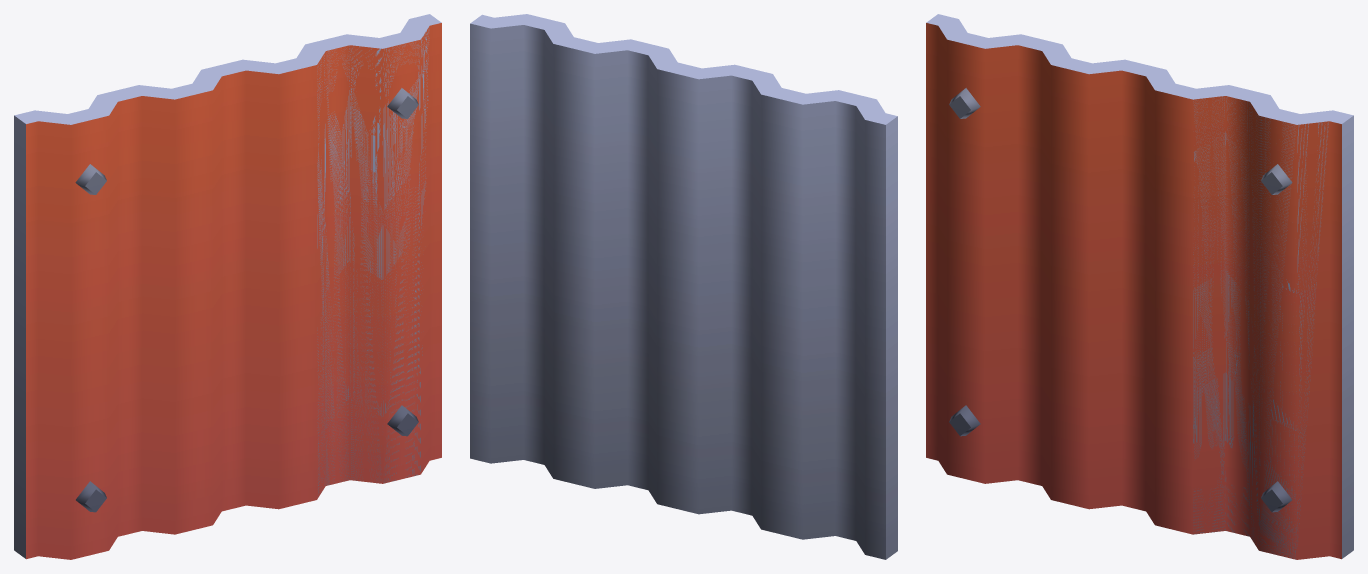
Rendered from kenney-survival-metal-panel-screws.glb.
3 renders of one model, left to right at view 1: azimuth 30°, elevation 25°; view 2: azimuth 150°, elevation 25°; view 3: azimuth 330°, elevation 25°, orthographic.
Parts seen in each view (by area): view 1: metal-panel-screws; view 2: metal-panel-screws; view 3: metal-panel-screws.
Boxes of the visible parts, x1,y1,x2,y2 form: metal-panel-screws: (14, 14, 441, 559); metal-panel-screws: (470, 14, 897, 559); metal-panel-screws: (926, 14, 1353, 559).
Bounding box in the file's own units: 0.5 × 0.5 × 0.0625.
1 material, 1 textured.
